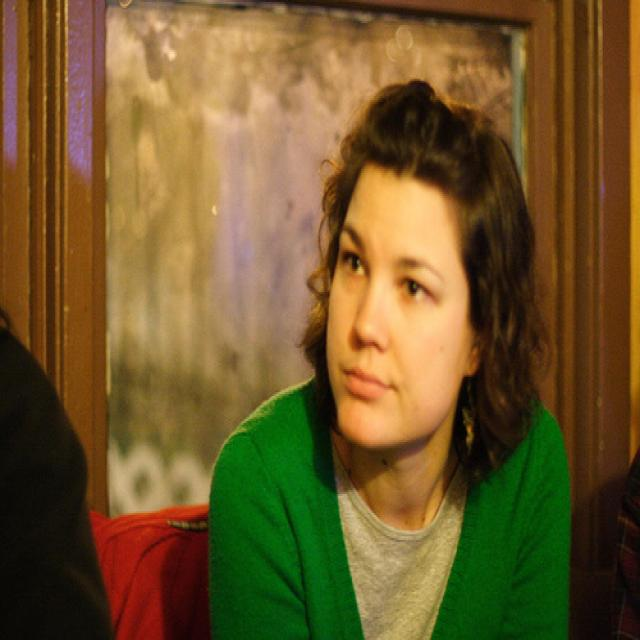person: (207, 78, 573, 639)
